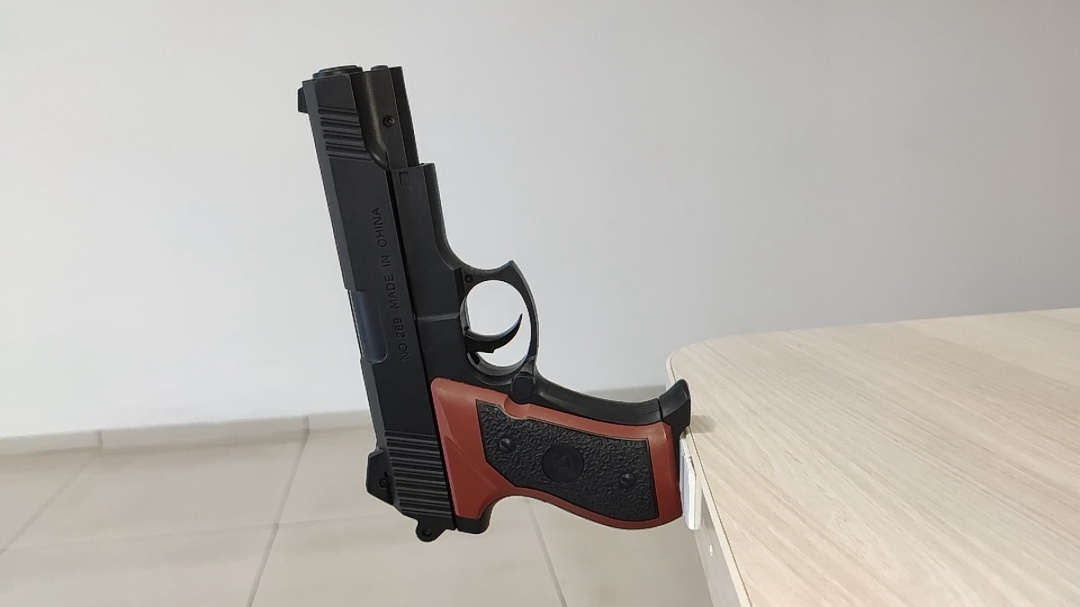gun: (298, 66, 691, 541)
